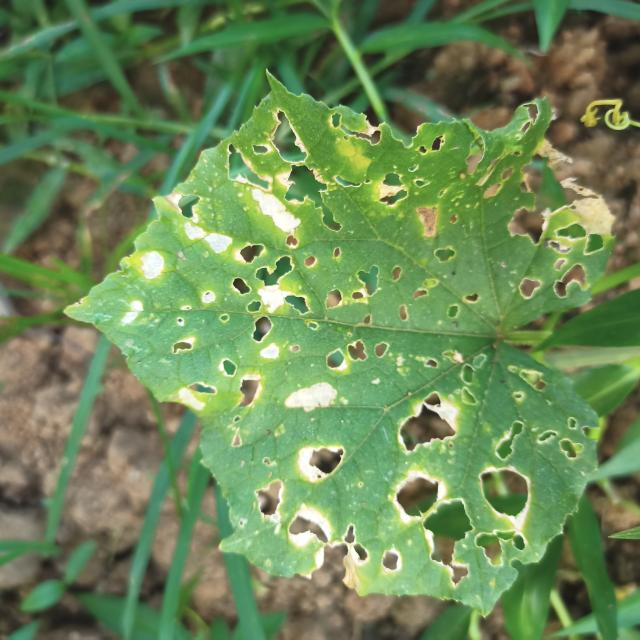disease_cucumber: (139, 131, 605, 573)
